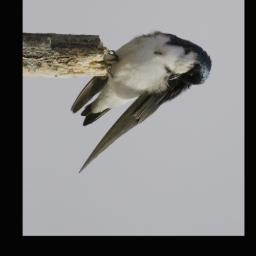Swallow: (66, 26, 216, 179)
